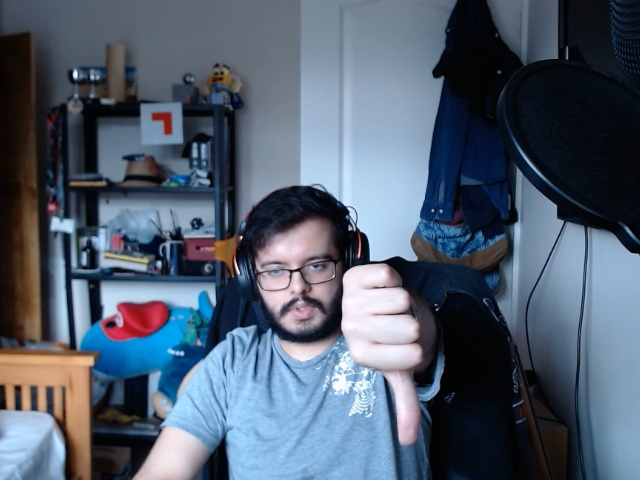Thumbs down: (333, 252, 432, 444)
